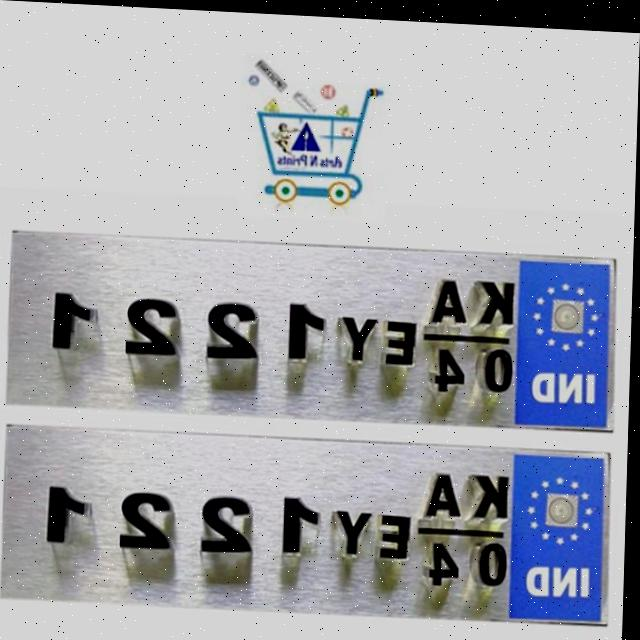plate: (7, 231, 616, 430), (3, 423, 611, 622)
